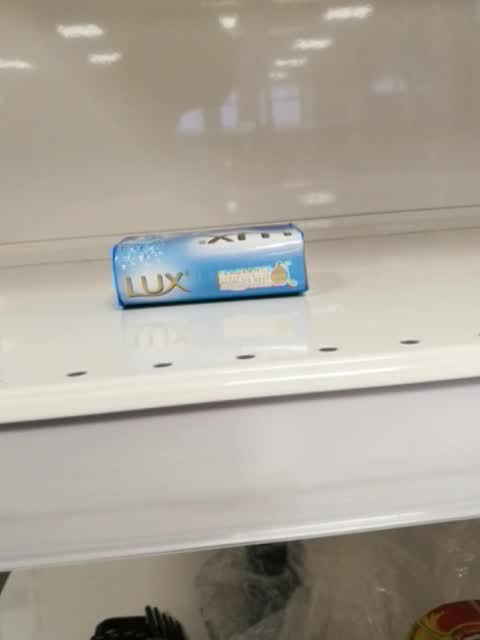soap: (110, 222, 309, 310)
